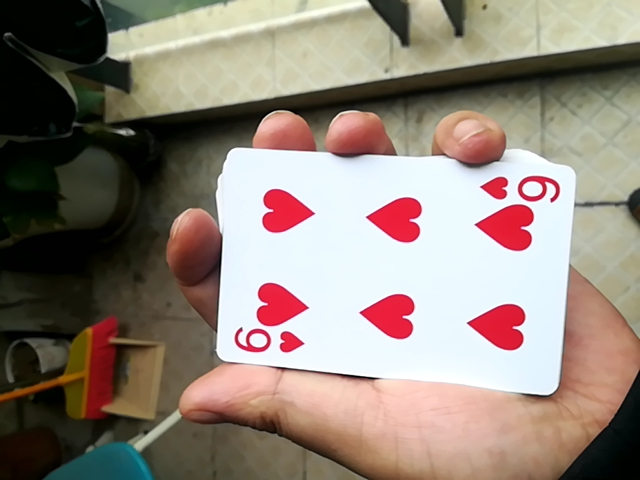hx 6: (190, 141, 567, 397)
